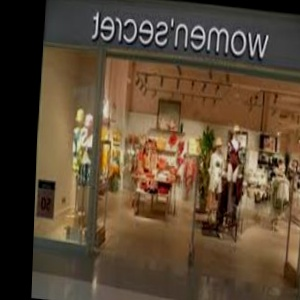women_secret: (261, 7, 300, 29)
